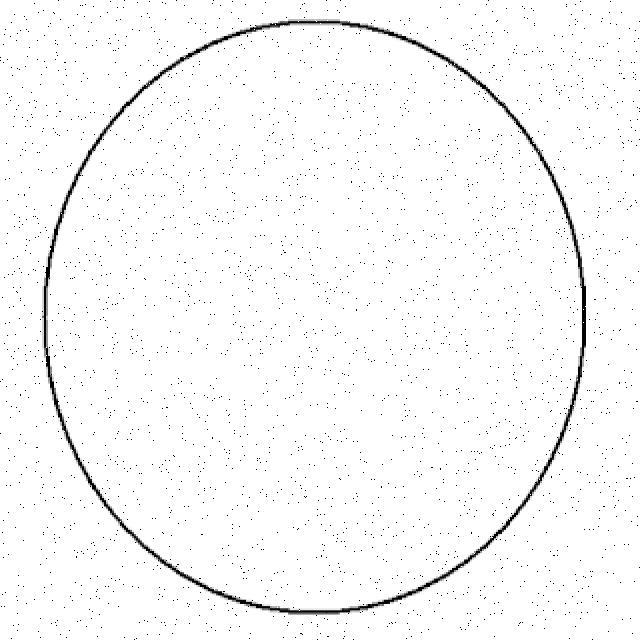Circle: (40, 11, 602, 625)
